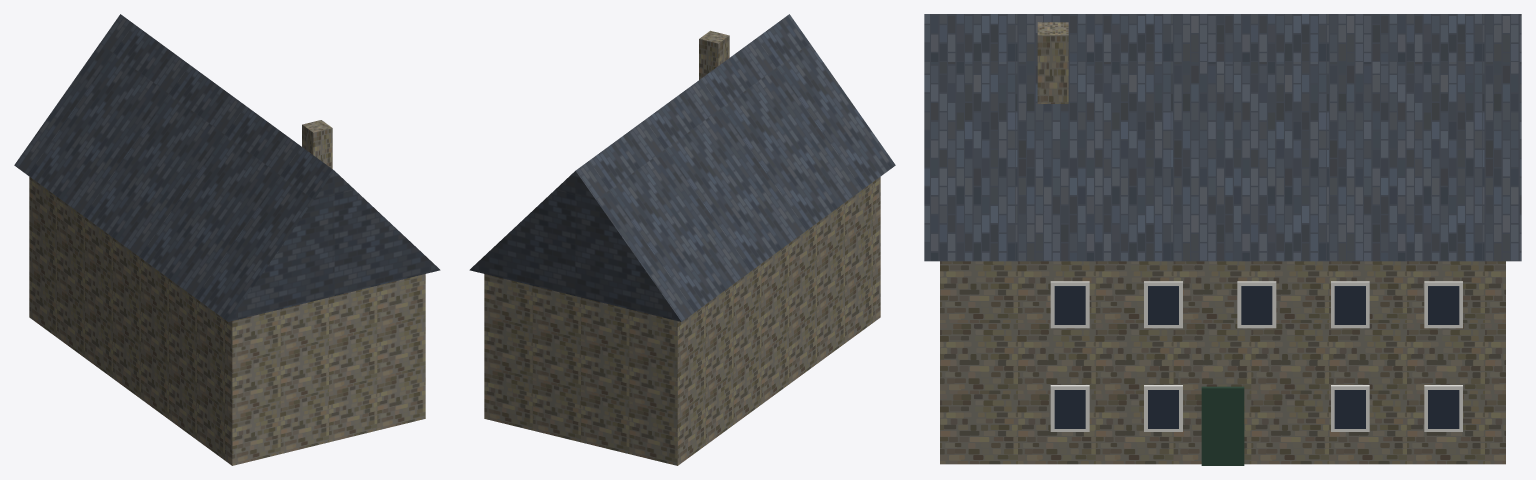
Rendered from ardennes_house_b.glb.
The picture shows the model from 3 angles, left to right: view 1: azimuth 30°, elevation 25°; view 2: azimuth 150°, elevation 25°; view 3: azimuth 270°, elevation 25°; orthographic projection. The views are drawn at different scales.
Parts seen in each view (by area): view 1: house; view 2: house; view 3: house.
Boxes of the visible parts, <box> form: house: <box>14,14,440,465</box>; house: <box>469,14,895,465</box>; house: <box>924,14,1521,465</box>.
Size of the model in its own units: 8.8 by 11.04 by 15.34.
Materials: 5 (2 with a texture image).
